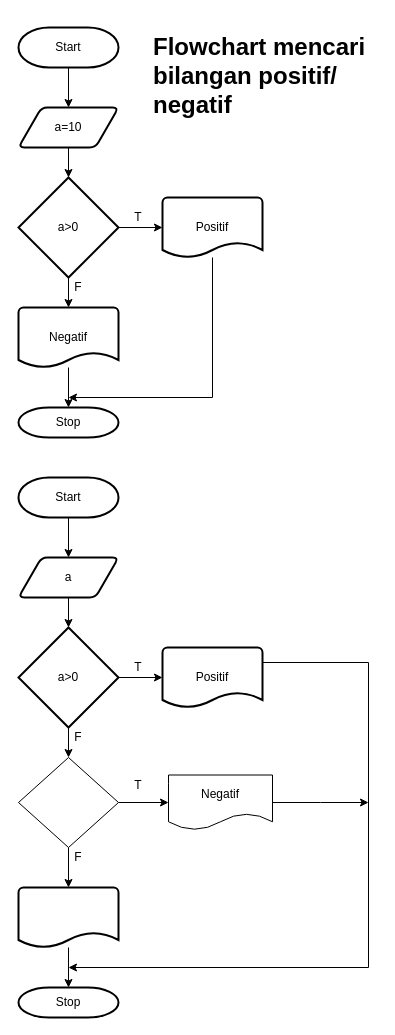
Some shapes in this 395 by 1035 pixel diagram are drawn without their labels. Each missing label, with the centre of its shape:
a<0: (x=68, y=802)
Nol: (x=68, y=917)
